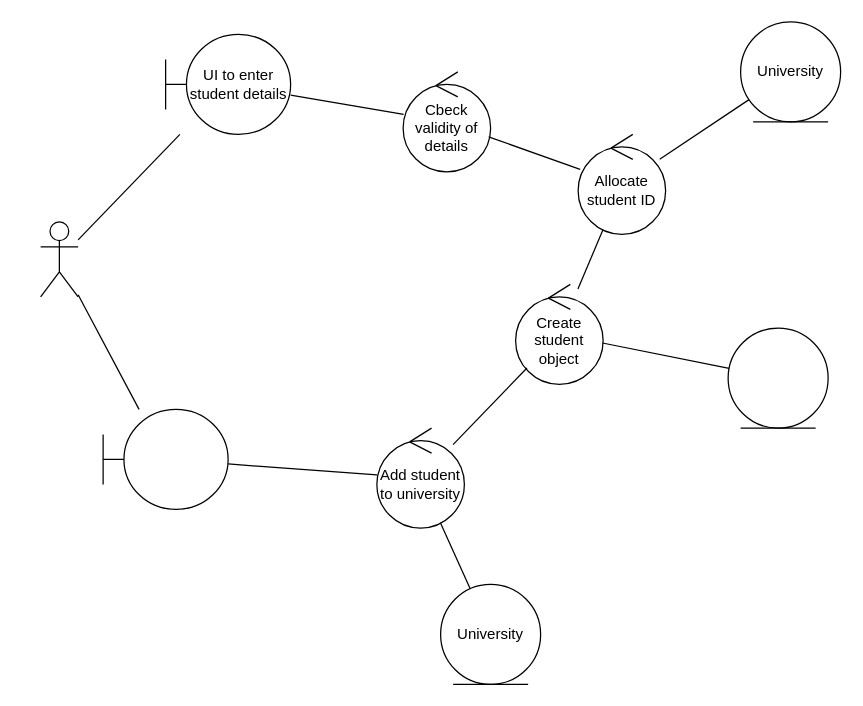
The diagram is 863 pixels wide and 706 high, and some of its shapes have lost their labels. Each missing label, with the centre of its shape:
"Admin staff" belongs at (58,259).
"Confirmation UI" belongs at (165,458).
"Student" belongs at (777,377).
